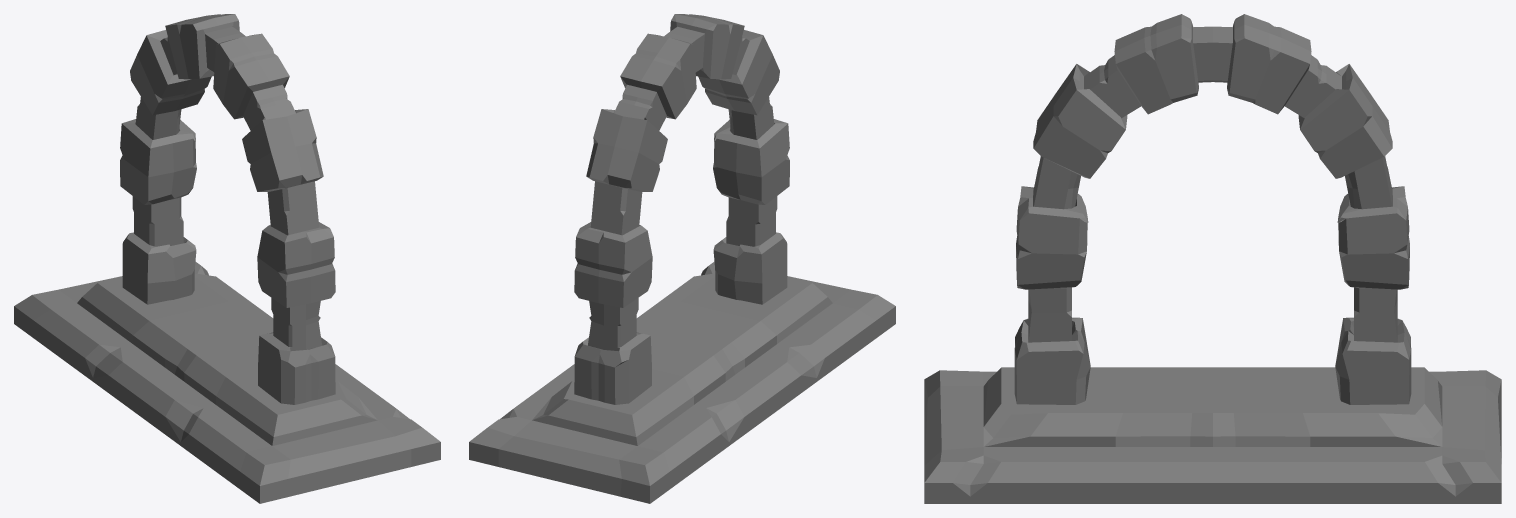
File: Portail.fbx
3 views of the same model, side by side, from view 1: azimuth 30°, elevation 25°; view 2: azimuth 150°, elevation 25°; view 3: azimuth 270°, elevation 25° (orthographic). The views are drawn at different scales.
Visible parts, largest first — view 1: Cube, Roche_fonce, Roche_pale; view 2: Cube, Roche_fonce, Roche_pale; view 3: Cube, Roche_fonce, Roche_pale.
Part boxes in pixels (x1,y1,x2,y2): Cube: [14, 261, 440, 503]; Roche_fonce: [120, 14, 335, 404]; Roche_pale: [132, 26, 321, 350]; Cube: [469, 261, 895, 503]; Roche_fonce: [574, 14, 789, 404]; Roche_pale: [588, 26, 777, 350]; Cube: [924, 367, 1501, 503]; Roche_fonce: [1014, 14, 1411, 404]; Roche_pale: [1028, 26, 1397, 342].
Size of the model in its own units: 226 by 435 by 533.
Materials: 2 (2 with a texture image).
